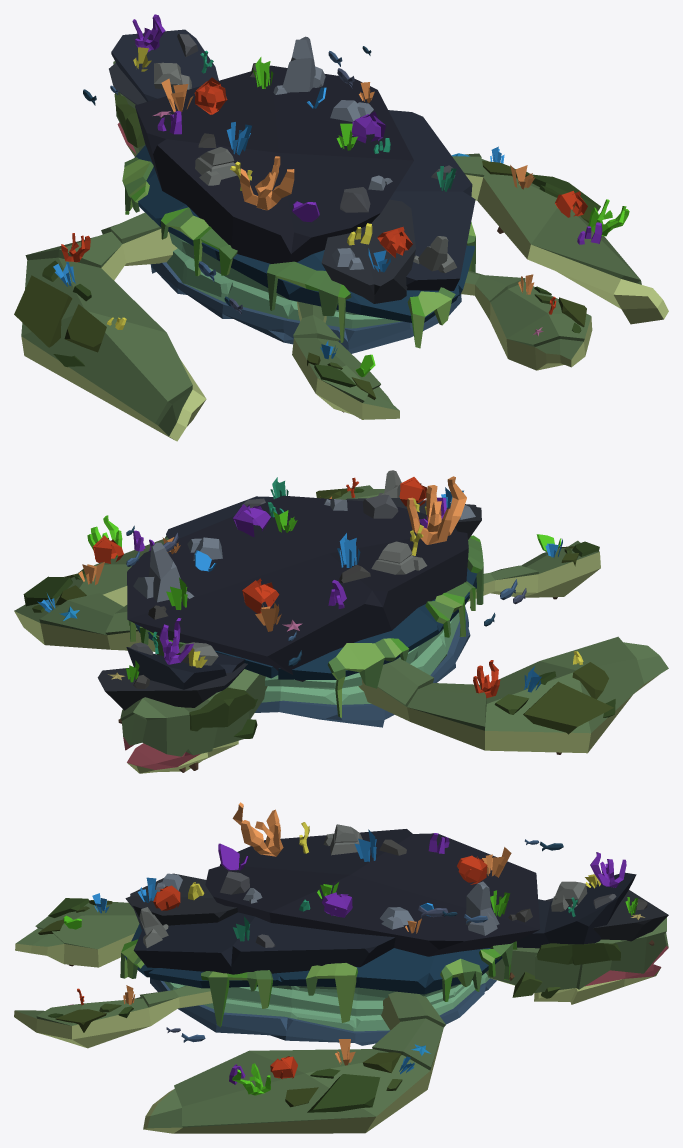
The model's file is tortoise-sf.glb.
3 renders of one model, top to bottom at view 1: azimuth 30°, elevation 25°; view 2: azimuth 150°, elevation 25°; view 3: azimuth 270°, elevation 25°, orthographic. The views are drawn at different scales.
Visible parts, largest first — view 1: GIANT_TORTOISE_LOW_POLY; view 2: GIANT_TORTOISE_LOW_POLY; view 3: GIANT_TORTOISE_LOW_POLY.
Boxes of the visible parts, x1=… form: GIANT_TORTOISE_LOW_POLY: x1=14, y1=14, x2=668, y2=441; GIANT_TORTOISE_LOW_POLY: x1=14, y1=470, x2=668, y2=773; GIANT_TORTOISE_LOW_POLY: x1=14, y1=802, x2=668, y2=1133.
Size of the model in its own units: 11.9 by 4.3 by 13.28.
